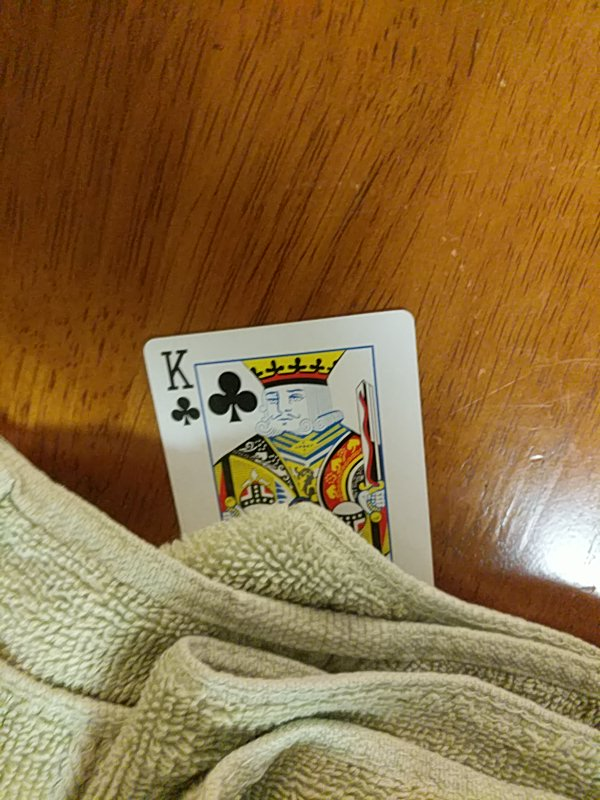Clubs: (142, 308, 435, 594)
